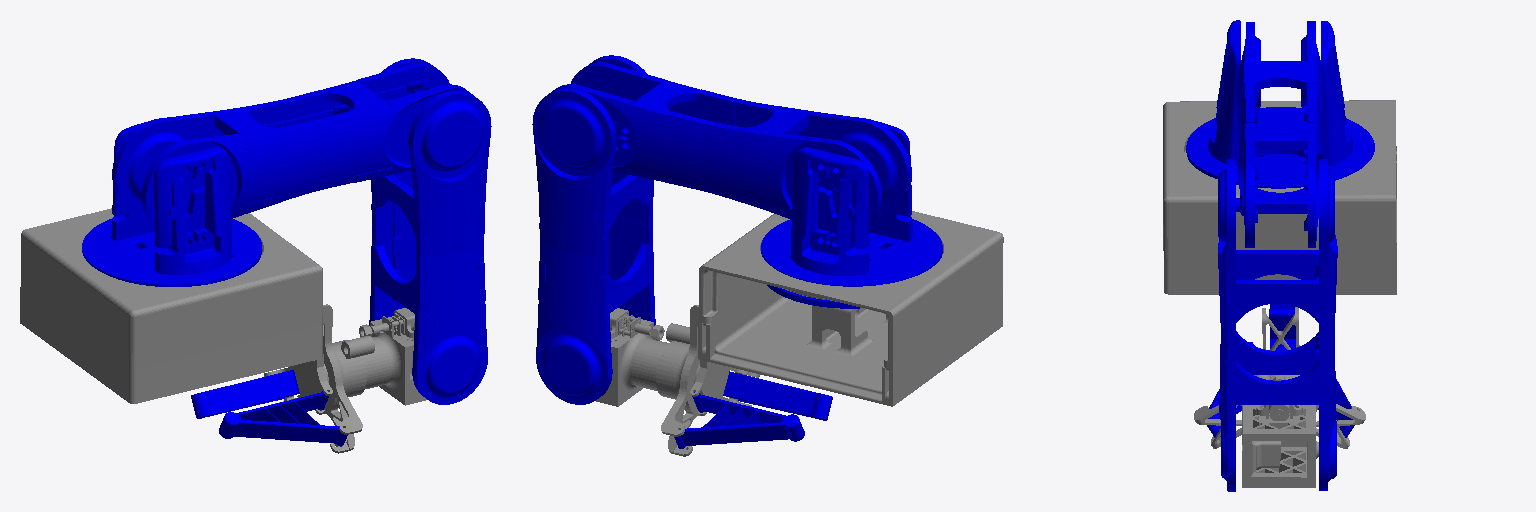
URDF robot description (agrirover):
<?xml version="1.0" ?>
<robot name="agrirover">
  <link name="base_link">
    <inertial>
      <mass value="5.0"/>
      <origin xyz="0 0 0" rpy="0 0 0"/>
      <inertia ixx="0.1" ixy="0.0" ixz="0.0" iyy="0.1" iyz="0.0" izz="0.1"/>
    </inertial>
    <visual>
      <geometry>
        <mesh filename="package://agrirover_description/meshes/Base.stl" scale="0.001 0.001 0.001"/>
      </geometry>
      <material name="gray">
        <color rgba="0.6 0.6 0.6 1"/>
      </material>
    </visual>
    <collision>
      <geometry>
        <mesh filename="package://agrirover_description/meshes/Base_simplified.stl" scale="0.001 0.001 0.001"/>
      </geometry>
      <origin xyz="0 0 0" rpy="0 0 0"/>
    </collision>
  </link>
  <link name="arm_link_0">
    <inertial>
      <mass value="3.0"/>
      <origin xyz="0 0 0" rpy="0 0 0"/>
      <inertia ixx="0.05" ixy="0.0" ixz="0.0" iyy="0.05" iyz="0.0" izz="0.05"/>
    </inertial>
    <visual>
      <geometry>
        <mesh filename="package://agrirover_description/meshes/Link_0.stl" scale="0.001 0.001 0.001"/>
      </geometry>
      <material name="blue">
        <color rgba="0 0 1 1"/>
      </material>
    </visual>
    <collision>
      <geometry>
        <mesh filename="package://agrirover_description/meshes/Link_0_simplified.stl" scale="0.001 0.001 0.001"/>
      </geometry>
      <origin xyz="0 0 0" rpy="0 0 0"/>
    </collision>
  </link>
  <link name="arm_link_1">
    <inertial>
      <mass value="2.0"/>
      <origin xyz="0 0 0" rpy="0 0 0"/>
      <inertia ixx="0.03" ixy="0.0" ixz="0.0" iyy="0.03" iyz="0.0" izz="0.03"/>
    </inertial>
    <visual>
      <geometry>
        <mesh filename="package://agrirover_description/meshes/Link_1.stl" scale="0.001 0.001 0.001"/>
      </geometry>
      <material name="blue">
        <color rgba="0 0 1 1"/>
      </material>
    </visual>
    <collision>
      <geometry>
        <mesh filename="package://agrirover_description/meshes/Link_1.stl" scale="0.001 0.001 0.001"/>
      </geometry>
      <origin xyz="0 0 0" rpy="0 0 0"/>
    </collision>
  </link>
  <link name="arm_link_2">
    <inertial>
      <mass value="1.5"/>
      <origin xyz="0 0 0" rpy="0 0 0"/>
      <inertia ixx="0.02" ixy="0.0" ixz="0.0" iyy="0.02" iyz="0.0" izz="0.02"/>
    </inertial>
    <visual>
      <geometry>
        <mesh filename="package://agrirover_description/meshes/Link_2.stl" scale="0.001 0.001 0.001"/>
      </geometry>
      <material name="blue">
        <color rgba="0 0 1 1"/>
      </material>
    </visual>
    <collision>
      <geometry>
        <mesh filename="package://agrirover_description/meshes/Link_2_simplified.stl" scale="0.001 0.001 0.001"/>
      </geometry>
      <origin xyz="0 0 0" rpy="0 0 0"/>
    </collision>
  </link>

  <link name="world">
  </link>
  
  <link name="gripper">
    <inertial>
      <mass value="0.5"/>
      <origin xyz="0 0 0" rpy="0 0 0"/>
      <inertia ixx="0.005" ixy="0.0" ixz="0.0" iyy="0.005" iyz="0.0" izz="0.005"/>
    </inertial>
    <visual>
      <geometry>
        <mesh filename="package://agrirover_description/meshes/gripper.stl" scale="0.001 0.001 0.001"/>
      </geometry>
      <material name="gray">
        <color rgba="0.6 0.6 0.6 1"/>
      </material>
    </visual>
    <collision>
      <geometry>
        <mesh filename="package://agrirover_description/meshes/gripper_simplified.stl" scale="0.001 0.001 0.001"/>
      </geometry>
    </collision>
  </link>
  <link name="finger_1">
    <inertial>
      <mass value="0.1"/>
      <origin xyz="0 0 0" rpy="0 0 0"/>
      <inertia ixx="0.001" ixy="0.0" ixz="0.0" iyy="0.001" iyz="0.0" izz="0.001"/>
    </inertial>
    <visual>
      <geometry>
        <mesh filename="package://agrirover_description/meshes/finger.stl" scale="0.001 0.001 0.001"/>
      </geometry>
      <material name="blue">
        <color rgba="0 0 1 1"/>
      </material>
    </visual>
    <collision>
      <geometry>
        <mesh filename="package://agrirover_description/meshes/finger.stl" scale="0.001 0.001 0.001"/>
      </geometry>
    </collision>
  </link>
  <link name="finger_2">
    <inertial>
      <mass value="0.1"/>
      <origin xyz="0 0 0" rpy="0 0 0"/>
      <inertia ixx="0.001" ixy="0.0" ixz="0.0" iyy="0.001" iyz="0.0" izz="0.001"/>
    </inertial>
    <visual>
      <geometry>
        <mesh filename="package://agrirover_description/meshes/finger.stl" scale="0.001 0.001 0.001"/>
      </geometry>
      <material name="blue">
        <color rgba="0 0 1 1"/>
      </material>
    </visual>
    <collision>
      <geometry>
        <mesh filename="package://agrirover_description/meshes/finger.stl" scale="0.001 0.001 0.001"/>
      </geometry>
    </collision>
  </link>
  <link name="finger_3">
    <inertial>
      <mass value="0.1"/>
      <origin xyz="0 0 0" rpy="0 0 0"/>
      <inertia ixx="0.001" ixy="0.0" ixz="0.0" iyy="0.001" iyz="0.0" izz="0.001"/>
    </inertial>
    <visual>
      <geometry>
        <mesh filename="package://agrirover_description/meshes/finger.stl" scale="0.001 0.001 0.001"/>
      </geometry>
      <material name="blue">
        <color rgba="0 0 1 1"/>
      </material>
    </visual>
    <collision>
      <geometry>
        <mesh filename="package://agrirover_description/meshes/finger.stl" scale="0.001 0.001 0.001"/>
      </geometry>
    </collision>
  </link>
  <joint name="world_to_base" type="fixed">
    <parent link="world"/>
    <child link="base_link"/>
    <origin xyz="0 0 0" rpy="0 0 0"/>
  </joint>
  <joint name="base_to_link_0" type="revolute">
    <parent link="base_link"/>
    <child link="arm_link_0"/>
    <origin xyz="0 0 0.03" rpy="0 0 0"/>
    <axis xyz="0 0 1"/>
    <limit effort="10.0" velocity="1.0" lower="0" upper="3.14"/>
  </joint>
  <joint name="link_0_to_link_1" type="revolute">
    <parent link="arm_link_0"/>
    <child link="arm_link_1"/>
    <origin xyz="0 0 0.05" rpy="1.57 1.57 0"/>
    <axis xyz="0 0 1"/>
    <limit effort="10.0" velocity="1.0" lower="0" upper="3.14"/>
  </joint>
  <joint name="link_1_to_link_2" type="revolute">
    <parent link="arm_link_1"/>
    <child link="arm_link_2"/>
    <origin xyz="0 0.176 0" rpy="0 0 -1.57"/>
    <axis xyz="0 0 1"/>
    <limit effort="10.0" velocity="1.0" lower="0" upper="3.14"/>
  </joint>
  <joint name="link_2_to_gripper" type="revolute">
    <parent link="arm_link_2"/>
    <child link="gripper"/>
    <origin xyz="0 0.155 0" rpy="0 0 -1.57"/>
    <axis xyz="0 0 1"/>
    <limit effort="10.0" velocity="1.0" lower="0" upper="3.14"/>
  </joint>
  <joint name="finger_1_joint" type="revolute">
    <parent link="gripper"/>
    <child link="finger_1"/>
    <origin xyz="0.02 0.08 -0.001" rpy="3.14 0 0"/>
    <axis xyz="0 0 1"/>
    <limit effort="10.0" velocity="1.0" lower="0" upper="0.9"/>
  </joint>
  <joint name="finger_2_joint" type="fixed">
    <parent link="gripper"/>
    <child link="finger_2"/>
    <origin xyz="-0.0085 0.08 0.015" rpy="3.14 -2.0944 0"/>
    <axis xyz="0 0 1"/>
  </joint>
  <joint name="finger_3_joint" type="fixed">
    <parent link="gripper"/>
    <child link="finger_3"/>
    <origin xyz="-0.0085 0.08 -0.015" rpy="3.14 2.0944 0"/>
    <axis xyz="0 0 1"/>
  </joint>
  <link name="camera_head_link">
    <visual>
      <origin xyz="0 0 0" rpy="1.5707963267948966 0.0 1.5707963267948966"/>
      <geometry>
        <mesh filename="package://agrirover_description/meshes/d435/visual/d435.stl"/>
      </geometry>
      <material name="aluminum">
        <color rgba="0.5 0.5 0.5 1"/>
      </material>
    </visual>
    <collision>
      <origin xyz="0 0 0" rpy="0 0 0"/>
      <geometry>
        <box size="0.02505 0.090 0.025"/>
      </geometry>
    </collision>
    <inertial>
      <mass value="0.072"/>
      <origin xyz="0 0 0"/>
      <inertia ixx="0.003881243" ixy="0.0" ixz="0.0" iyy="0.000498940" iyz="0.0" izz="0.003879257"/>
    </inertial>
  </link>
  <joint name="camera_head_depth_joint" type="fixed">
    <origin xyz="0 0 0" rpy="0 0 0"/>
    <parent link="camera_head_link"/>
    <child link="camera_head_depth_frame"/>
  </joint>
  <link name="camera_head_depth_frame"/>
  <joint name="camera_head_depth_optical_joint" type="fixed">
    <origin xyz="0 0 0" rpy="-1.5707963267948966 0 -1.5707963267948966"/>
    <parent link="camera_head_depth_frame"/>
    <child link="camera_head_depth_optical_frame"/>
  </joint>
  <link name="camera_head_depth_optical_frame"/>
  <joint name="camera_head_infra1_joint" type="fixed">
    <origin xyz="0 0.0 0" rpy="0 0 0"/>
    <parent link="camera_head_link"/>
    <child link="camera_head_infra1_frame"/>
  </joint>
  <link name="camera_head_infra1_frame"/>
  <joint name="camera_head_infra1_optical_joint" type="fixed">
    <origin xyz="0 0 0" rpy="-1.5707963267948966 0 -1.5707963267948966"/>
    <parent link="camera_head_infra1_frame"/>
    <child link="camera_head_infra1_optical_frame"/>
  </joint>
  <link name="camera_head_infra1_optical_frame"/>
  <joint name="camera_head_infra2_joint" type="fixed">
    <origin xyz="0 -0.050 0" rpy="0 0 0"/>
    <parent link="camera_head_link"/>
    <child link="camera_head_infra2_frame"/>
  </joint>
  <link name="camera_head_infra2_frame"/>
  <joint name="camera_head_infra2_optical_joint" type="fixed">
    <origin xyz="0 0 0" rpy="-1.5707963267948966 0 -1.5707963267948966"/>
    <parent link="camera_head_infra2_frame"/>
    <child link="camera_head_infra2_optical_frame"/>
  </joint>
  <link name="camera_head_infra2_optical_frame"/>
  <joint name="camera_head_color_joint" type="fixed">
    <origin xyz="0 0.015 0" rpy="0 0 0"/>
    <parent link="camera_head_link"/>
    <child link="camera_head_color_frame"/>
  </joint>
  <link name="camera_head_color_frame"/>
  <joint name="camera_head_color_optical_joint" type="fixed">
    <origin xyz="0 0 0" rpy="-1.5707963267948966 0 -1.5707963267948966"/>
    <parent link="camera_head_color_frame"/>
    <child link="camera_head_color_optical_frame"/>
  </joint>
  <link name="camera_head_color_optical_frame"/>
  <gazebo reference="camera_head_link">
    <sensor name="camera_head" type="rgbd_camera">
      <camera>
        <horizontal_fov>1.5184</horizontal_fov>
        <image>
          <width>424</width>
          <height>240</height>
        </image>
        <clip>
          <near>0.05</near>
          <far>1.5</far>
        </clip>
      </camera>
      <always_on>1</always_on>
      <gz_frame_id>camera_head_link</gz_frame_id>
      <topic>camera_head</topic>
      <update_rate>5</update_rate>
      <visualize>true</visualize>
    </sensor>
  </gazebo>
  <joint name="gripper_to_camera" type="fixed">
    <parent link="gripper"/>
    <child link="camera_head_link"/>
    <origin xyz="-0.025 0.02 0" rpy="-1.57 0 1.57"/>
  </joint>



</robot>

--- Render facts (derived) ---
3 views of the same robot in one strip: view 1: azimuth 30°, elevation 25°; view 2: azimuth 150°, elevation 25°; view 3: azimuth 270°, elevation 25° (orthographic).
Model agrirover with 18 links and 17 joints (5 revolute, 12 fixed), rooted at world, posed every joint at zero.
Visible links, largest first — view 1: base_link, arm_link_2, arm_link_1, arm_link_0, gripper, finger_2, finger_3; view 2: base_link, arm_link_2, arm_link_1, arm_link_0, gripper, finger_3, finger_2; view 3: base_link, arm_link_2, arm_link_1, arm_link_0, gripper, finger_1.
Link boxes in pixels (<box>): base_link: <box>20,208,322,403</box>; arm_link_2: <box>369,58,491,404</box>; arm_link_1: <box>112,63,472,232</box>; arm_link_0: <box>82,121,261,286</box>; gripper: <box>264,304,426,453</box>; finger_2: <box>219,391,347,446</box>; finger_3: <box>191,370,299,418</box>; base_link: <box>698,211,1003,406</box>; arm_link_2: <box>532,55,655,404</box>; arm_link_1: <box>549,62,911,233</box>; arm_link_0: <box>761,121,942,308</box>; gripper: <box>596,305,759,456</box>; finger_3: <box>674,392,804,448</box>; finger_2: <box>723,371,832,420</box>; base_link: <box>1163,100,1396,294</box>; arm_link_2: <box>1218,159,1337,491</box>; arm_link_1: <box>1236,21,1325,247</box>; arm_link_0: <box>1186,20,1374,188</box>; gripper: <box>1194,307,1365,487</box>; finger_1: <box>1269,304,1295,350</box>.
Size in the robot's own frame: 0.2699 by 0.1337 by 0.2194 metres.
Meshes: 7 distinct files referenced, 8 mesh visuals loaded (6 binary STL); not drawn: 1 (reference not matched to a file when rendering).
